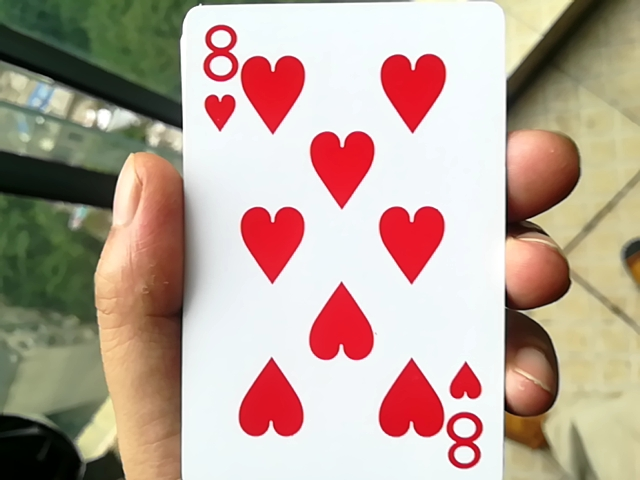hx 8: (156, 0, 502, 477)
